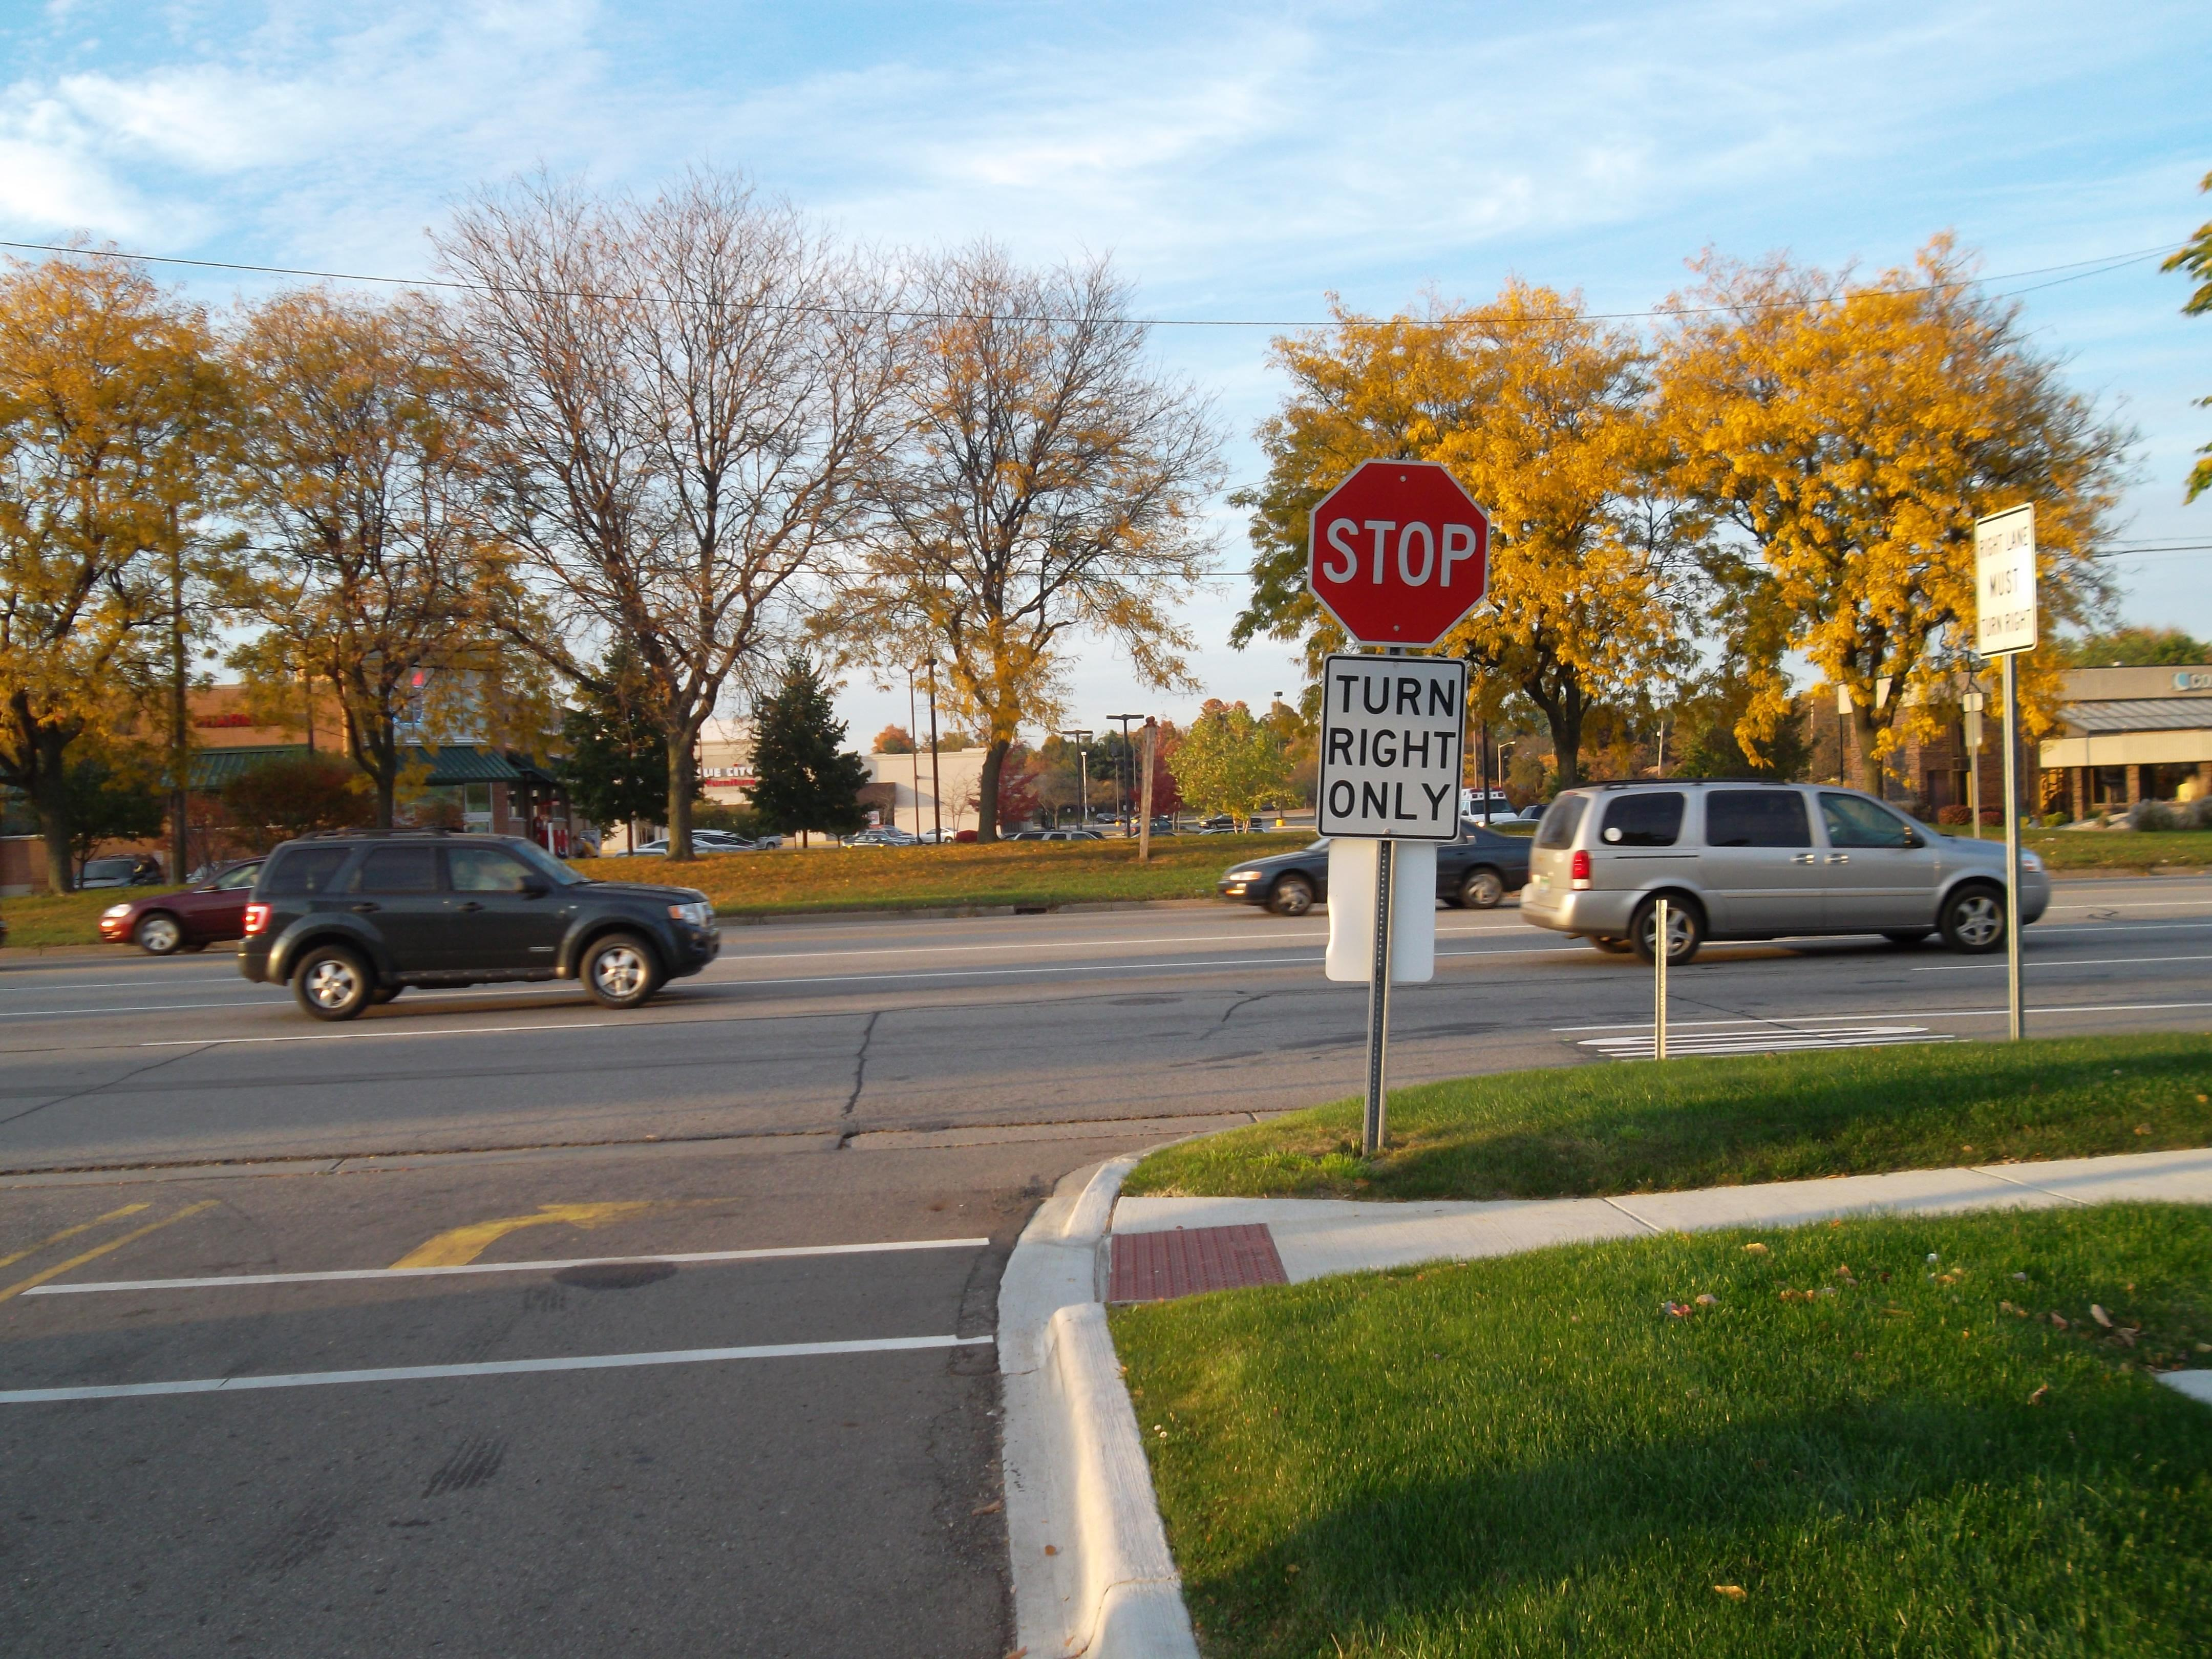regulatory: (1320, 655, 1465, 842), (1968, 505, 2043, 662)
stop: (1308, 460, 1493, 648)
